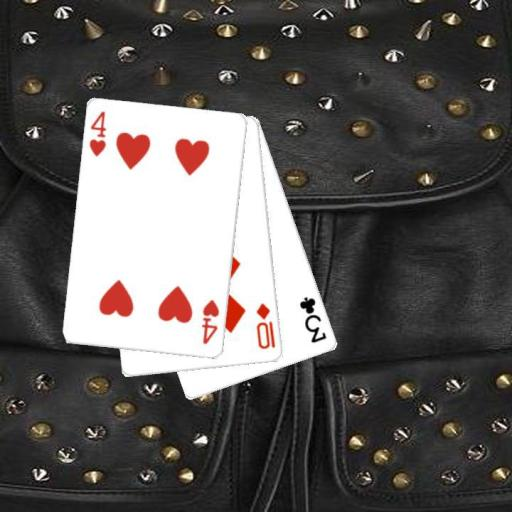10D: (254, 300, 277, 351)
3C: (297, 294, 329, 345)
4H: (86, 109, 109, 159), (199, 297, 222, 346)
